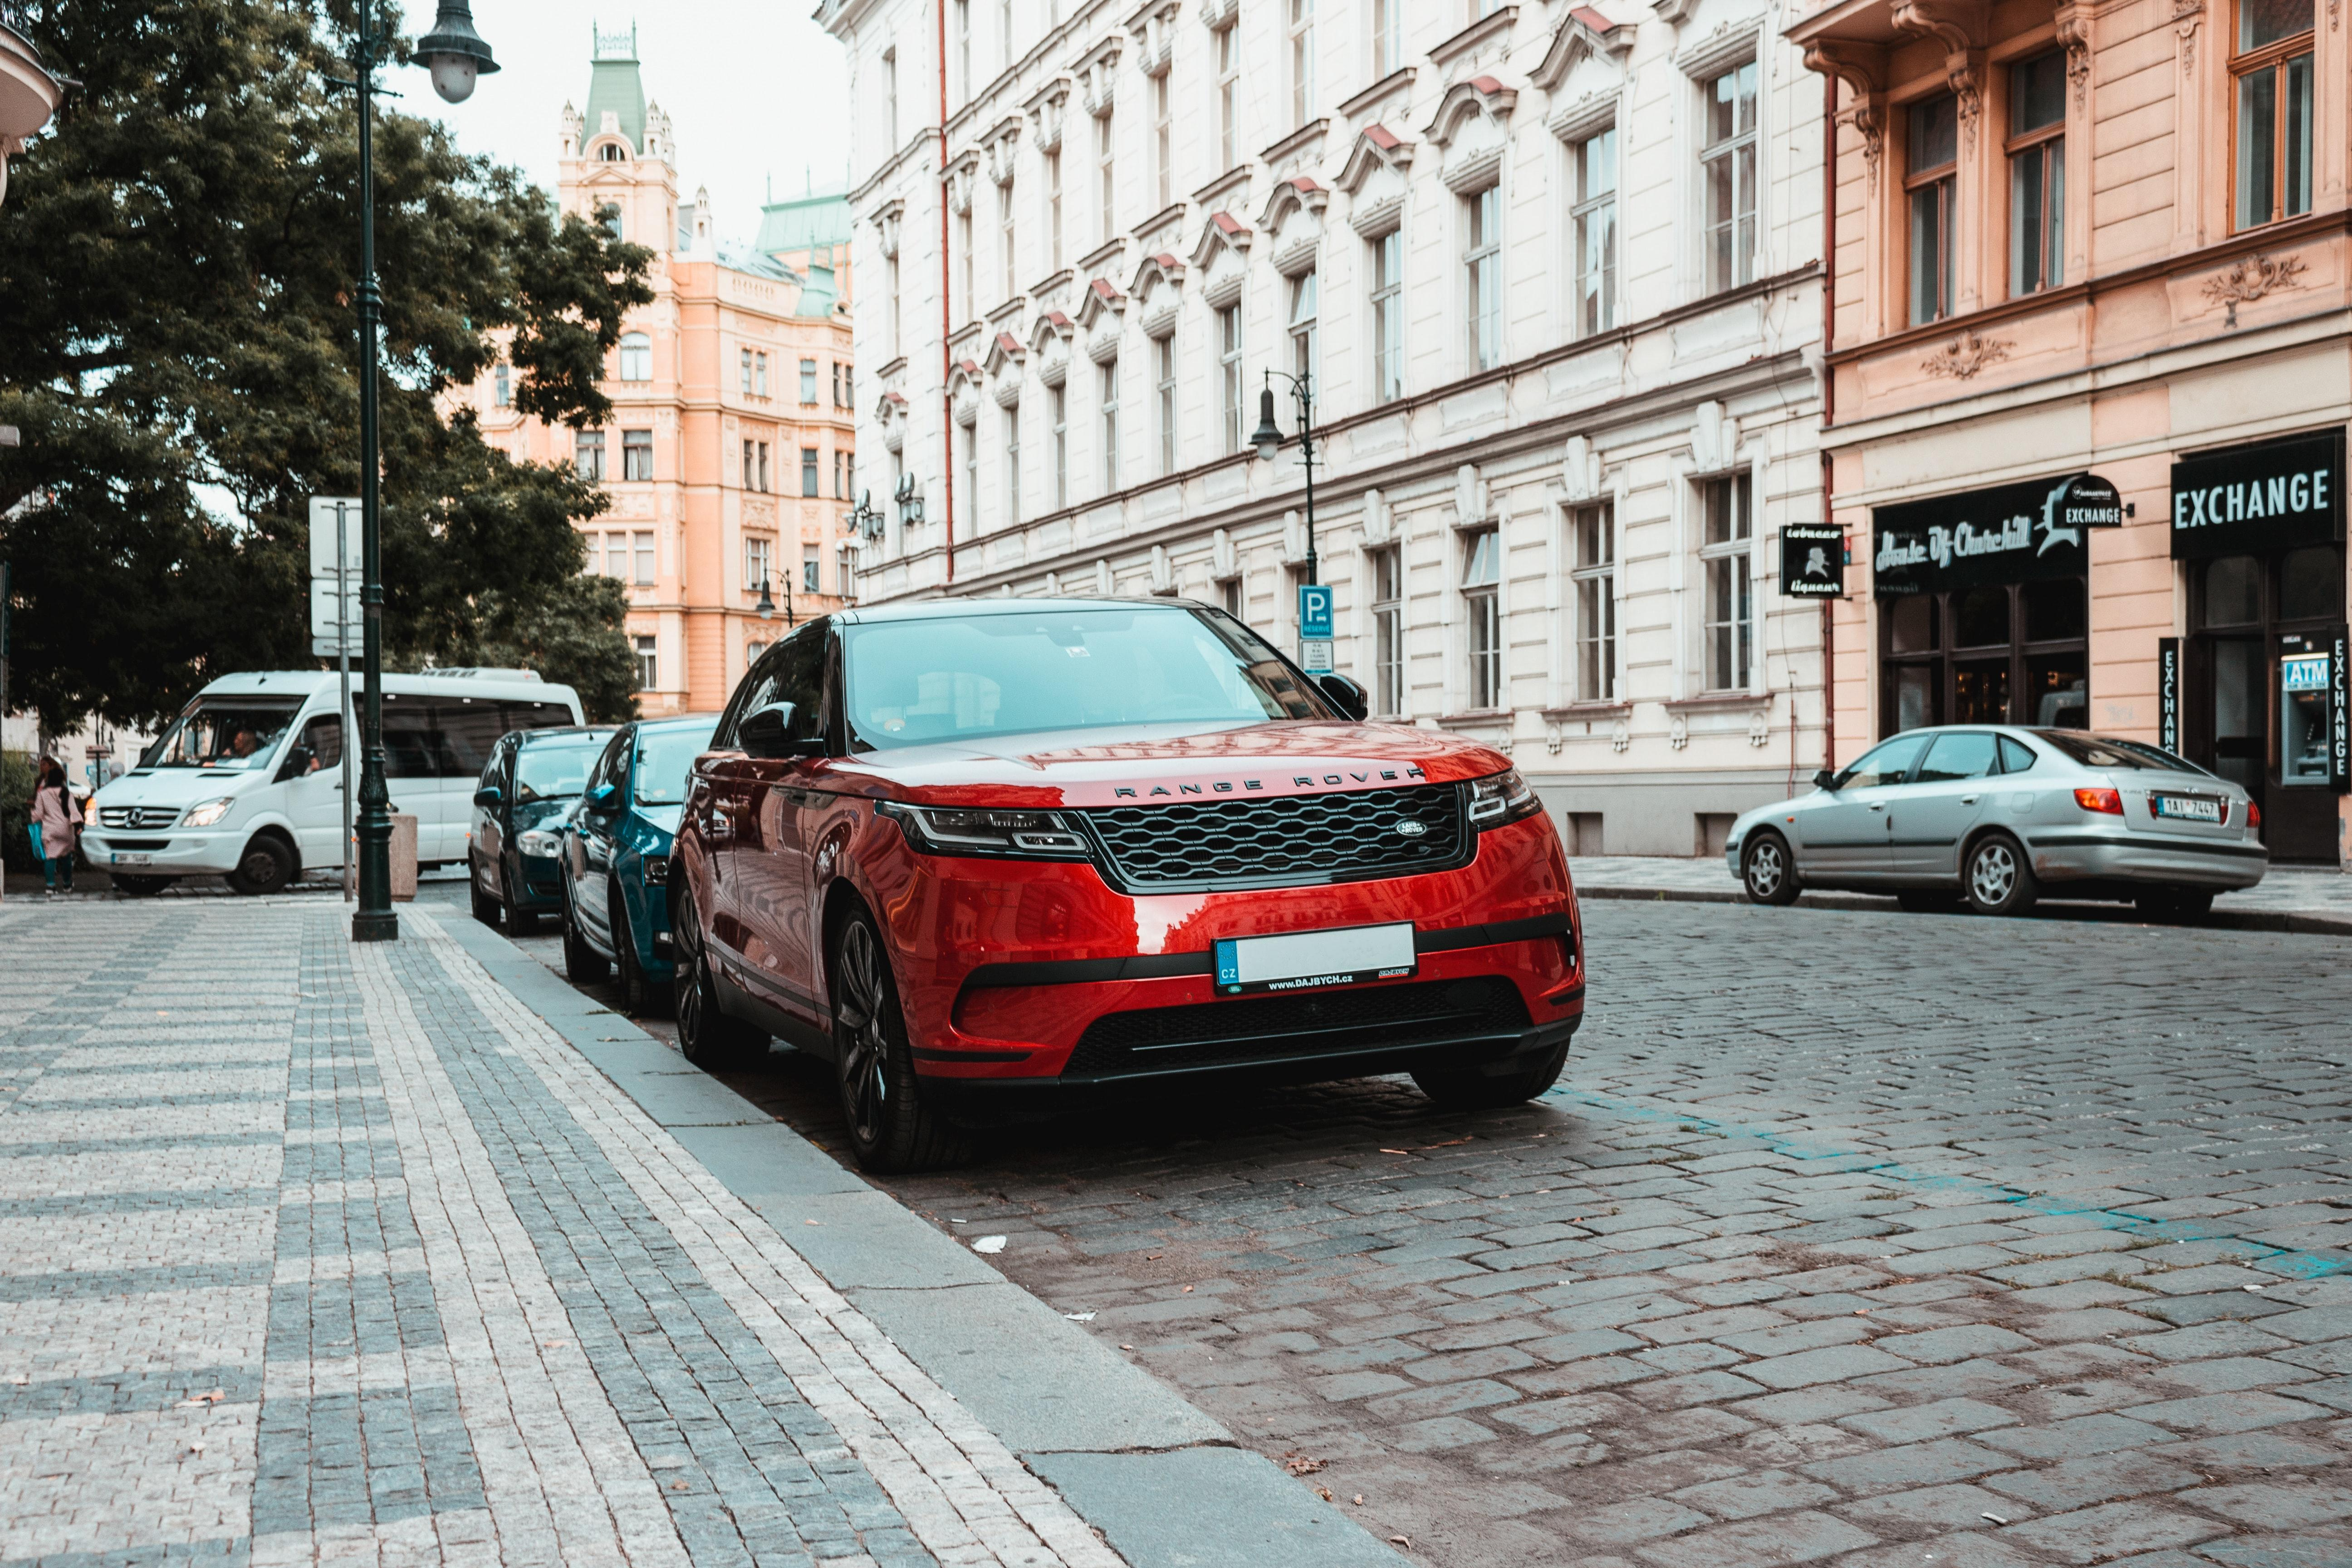Mercedes: (112, 802, 152, 837)
range rover: (1092, 753, 1447, 824)
